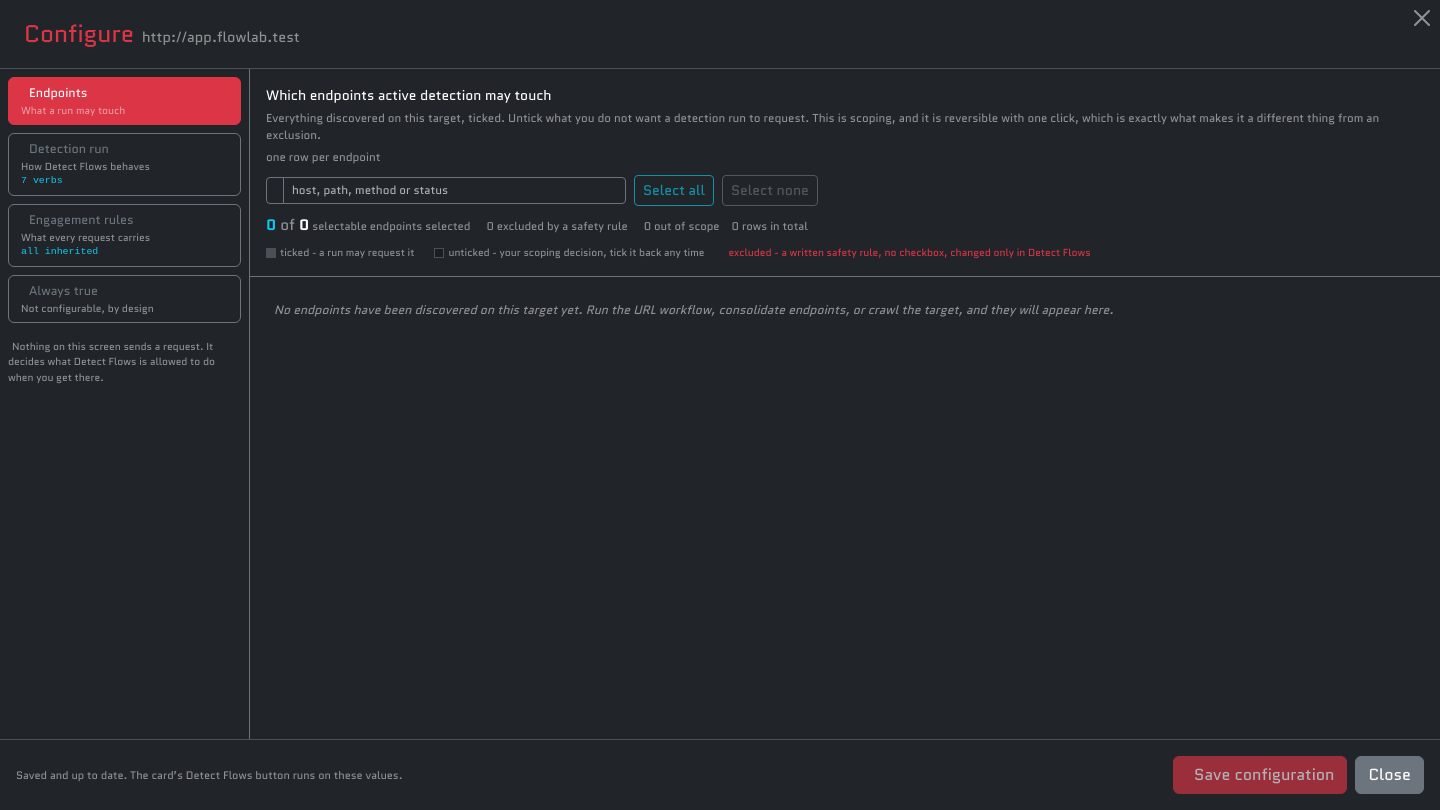
Scenario: the Configure modal detection section › both guards are present and off by default
Click the button "Detection run How Detect Flows behaves 7 verbs".
click(124, 165)  # box [8, 133, 241, 196]
Wait 900 ms
(page scrolled)
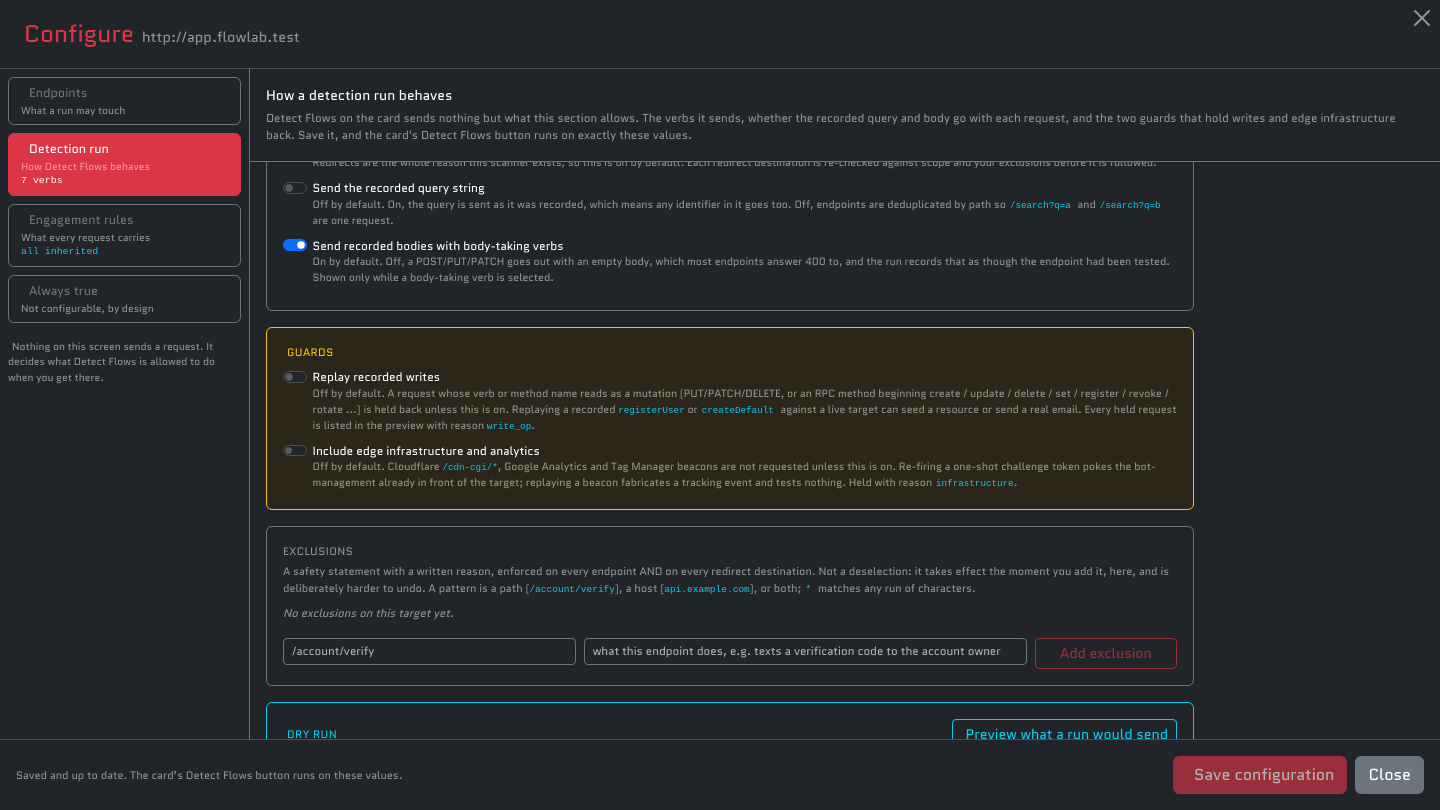
Expected: the checkbox with id "detect-include-writes" is not checked, [283, 371, 307, 383]
Expected: the checkbox with id "detect-include-infra" is not checked, [283, 444, 307, 456]
